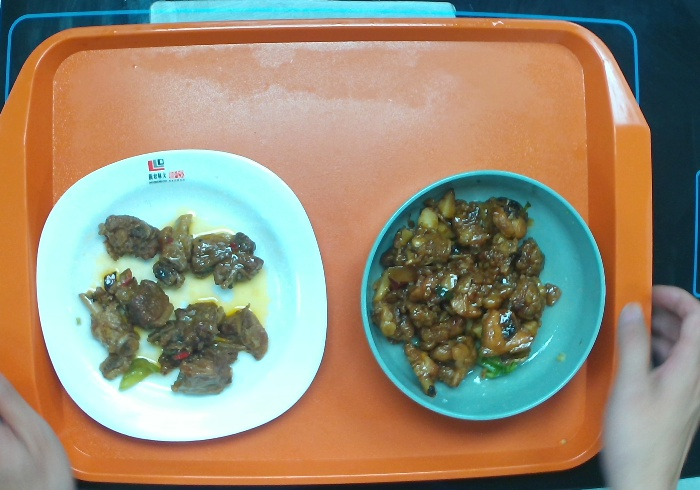ZNLD-Qing_Hua_Yuan_Wan: (358, 167, 609, 425)
ZNLD-Yuan_Jiao_Pan: (31, 144, 328, 444)
